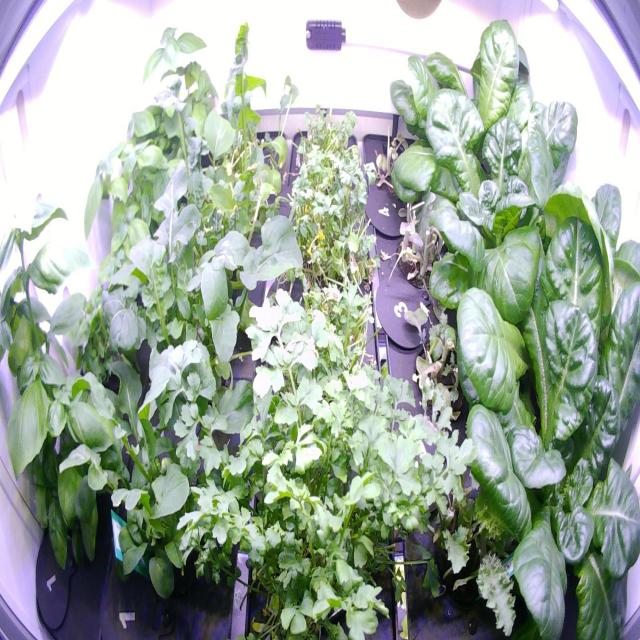Ready: (444, 210, 640, 635), (424, 164, 638, 414), (402, 82, 624, 279), (372, 3, 558, 202)
